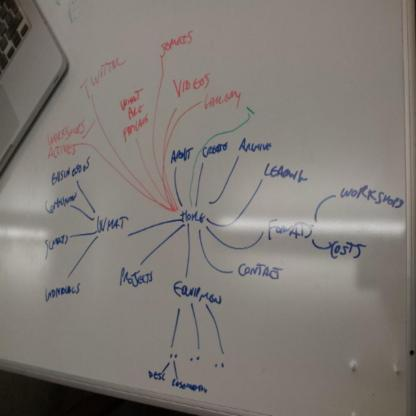board: (1, 0, 69, 175)
